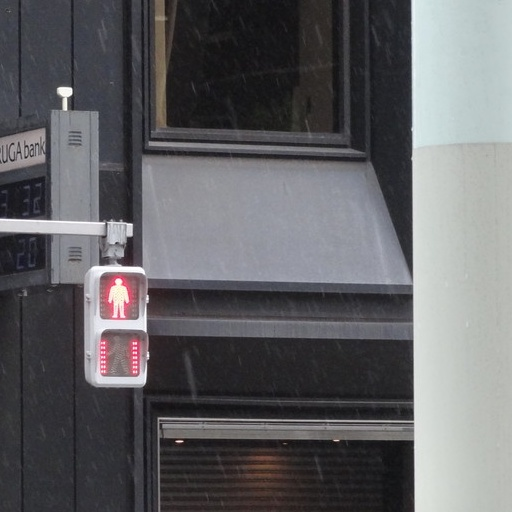Pedestrian_Signal_Red: (84, 262, 145, 389)
